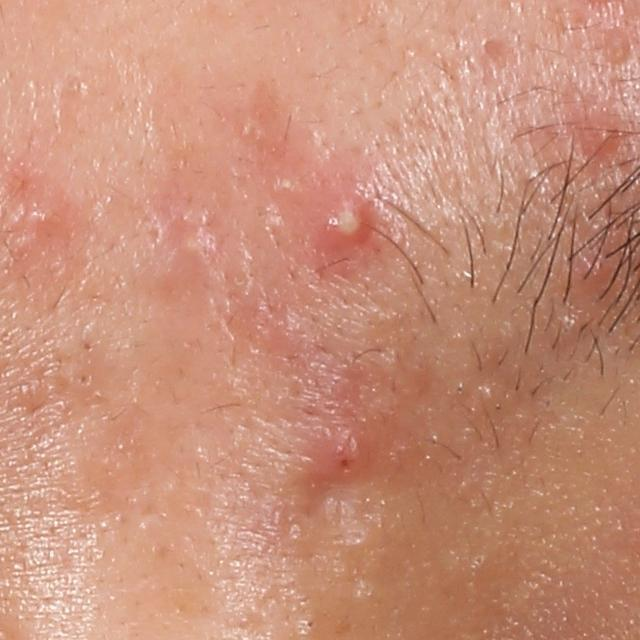comedo: (610, 34, 629, 65), (295, 617, 317, 637)
papule: (315, 429, 373, 486), (566, 240, 612, 298), (21, 197, 56, 239), (588, 120, 624, 158)
